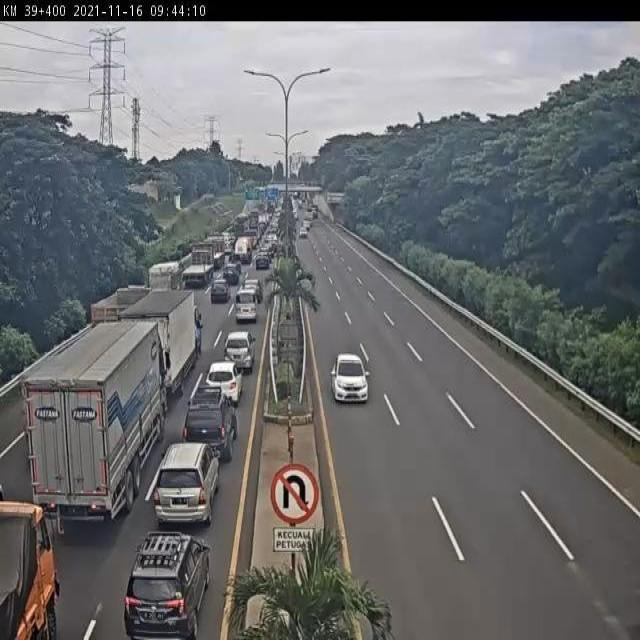Car: (123, 531, 211, 640), (1, 500, 61, 638), (154, 431, 218, 524), (184, 387, 242, 465), (330, 353, 370, 404), (204, 359, 244, 404), (224, 330, 256, 375), (233, 286, 258, 323), (210, 277, 230, 303), (270, 197, 284, 230), (222, 264, 240, 284), (223, 237, 236, 257), (255, 255, 270, 270), (299, 224, 310, 238), (304, 216, 312, 227), (298, 198, 304, 208)
Truck: (20, 315, 173, 522), (234, 214, 249, 237), (248, 211, 260, 234), (212, 251, 225, 271), (230, 249, 244, 265), (212, 270, 226, 286), (266, 241, 278, 256), (290, 200, 299, 220), (258, 220, 267, 237), (295, 218, 303, 231), (267, 202, 275, 214), (307, 202, 314, 212), (312, 208, 318, 218), (294, 191, 300, 200)
